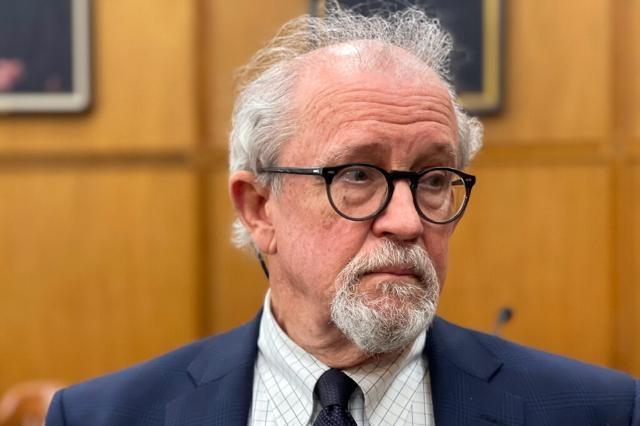forehead: (399, 89, 451, 132), (342, 84, 392, 125)
gummy_smile: (348, 220, 374, 260), (414, 226, 432, 252)
